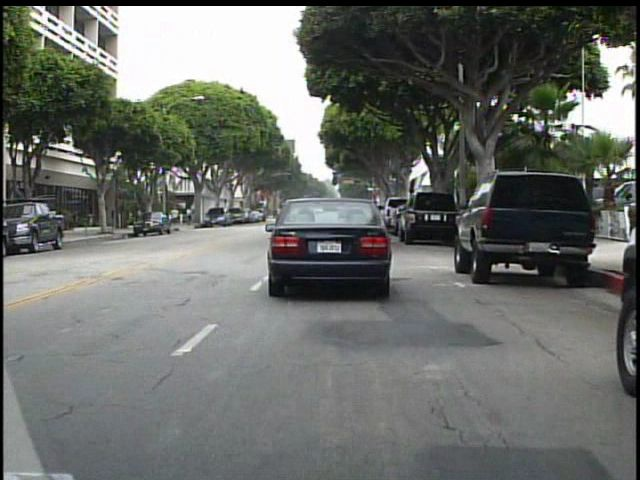person: (184, 202, 196, 228), (172, 205, 181, 226)
